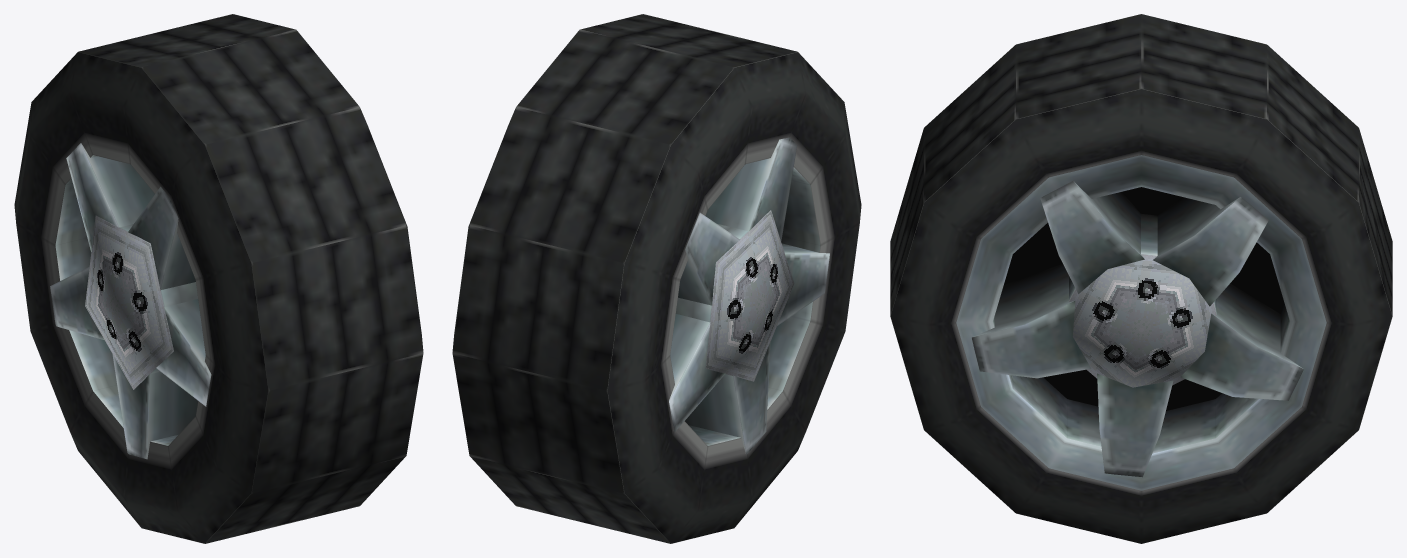
File: DefaultWheel_infernus.glb
3 views of the same model, side by side, from view 1: azimuth 30°, elevation 25°; view 2: azimuth 150°, elevation 25°; view 3: azimuth 270°, elevation 25° (orthographic).
Parts seen in each view (by area): view 1: wheel; view 2: wheel; view 3: wheel.
Boxes of the visible parts, x1,y1,x2,y2 form: wheel: (14,14,423,543); wheel: (452,14,861,543); wheel: (890,14,1392,543).
Size of the model in its own units: 0.3373 by 0.7 by 0.7.
4 materials, 3 textured.
